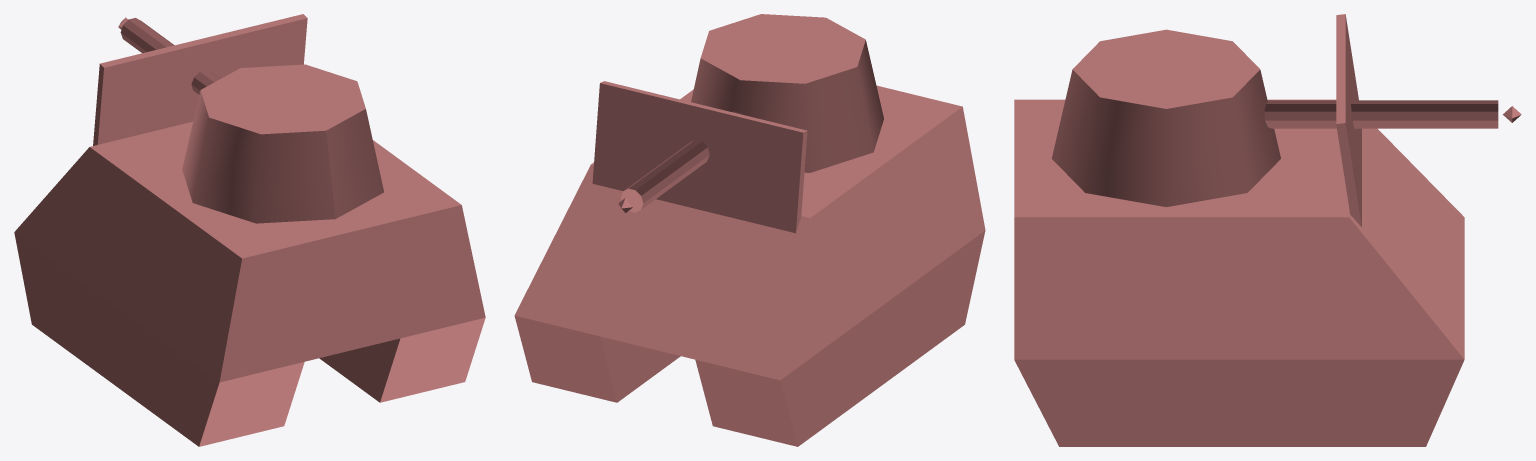
The picture shows the model from 3 angles, left to right: view 1: azimuth 30°, elevation 25°; view 2: azimuth 150°, elevation 25°; view 3: azimuth 270°, elevation 25°; orthographic projection. The views are drawn at different scales.
Visible parts, largest first — view 1: x3ds_Box01, x3ds_Cylinder01, x3ds_Box03, x3ds_Box04, x3ds_Box02, x3ds_Cylinder02; view 2: x3ds_Box01, x3ds_Box03, x3ds_Cylinder01, x3ds_Box04, x3ds_Box02, x3ds_Cylinder02; view 3: x3ds_Box01, x3ds_Box02, x3ds_Cylinder01, x3ds_Cylinder02, x3ds_Box04.
Part boxes in pixels (box(x1,y1,x2,y2)): x3ds_Box01: box(14, 121, 485, 382); x3ds_Cylinder01: box(182, 64, 383, 223); x3ds_Box03: box(14, 232, 304, 446); x3ds_Box04: box(93, 14, 307, 145); x3ds_Box02: box(319, 317, 485, 402); x3ds_Cylinder02: box(120, 18, 220, 94); x3ds_Box01: box(514, 85, 985, 380); x3ds_Box03: box(695, 231, 985, 446); x3ds_Cylinder01: box(691, 14, 883, 172); x3ds_Box04: box(592, 81, 807, 233); x3ds_Box02: box(514, 315, 680, 402); x3ds_Cylinder02: box(621, 111, 743, 212); x3ds_Box01: box(1014, 99, 1464, 359); x3ds_Box02: box(1014, 359, 1464, 446); x3ds_Cylinder01: box(1051, 29, 1280, 207); x3ds_Cylinder02: box(1264, 100, 1498, 128); x3ds_Box04: box(1336, 14, 1361, 226).
Bounding box in the file's own units: 35.3 × 35.5 × 53.15.
